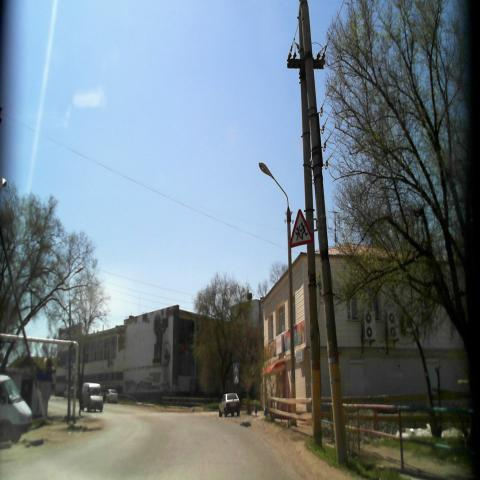1_23: (290, 210, 313, 249)
